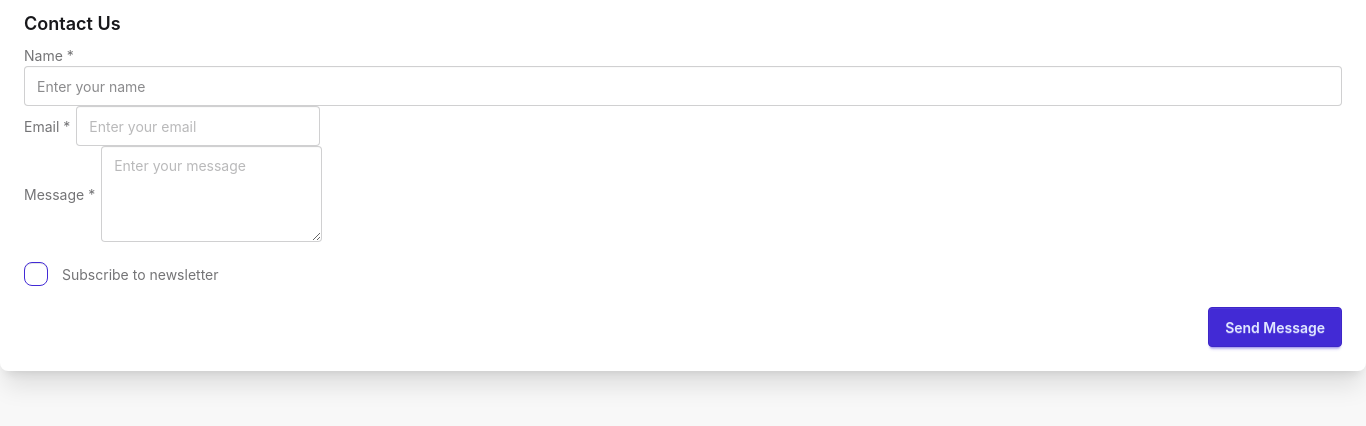
ContactForm › validation errors › shows "Name is required" when name is empty
The image size is (1366, 426).
Type "mighty@pirate.gov" into the field labelled "Email *" at (198, 126), box [76,106,320,146]
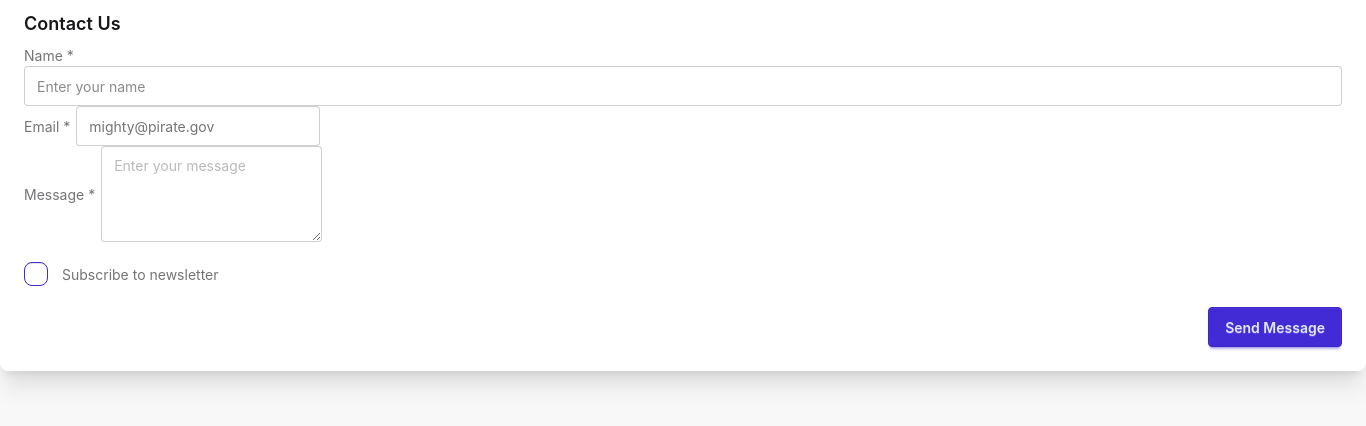
Type "Hello" into the text box labelled "Message *" at (212, 194), box [101,146,322,242]
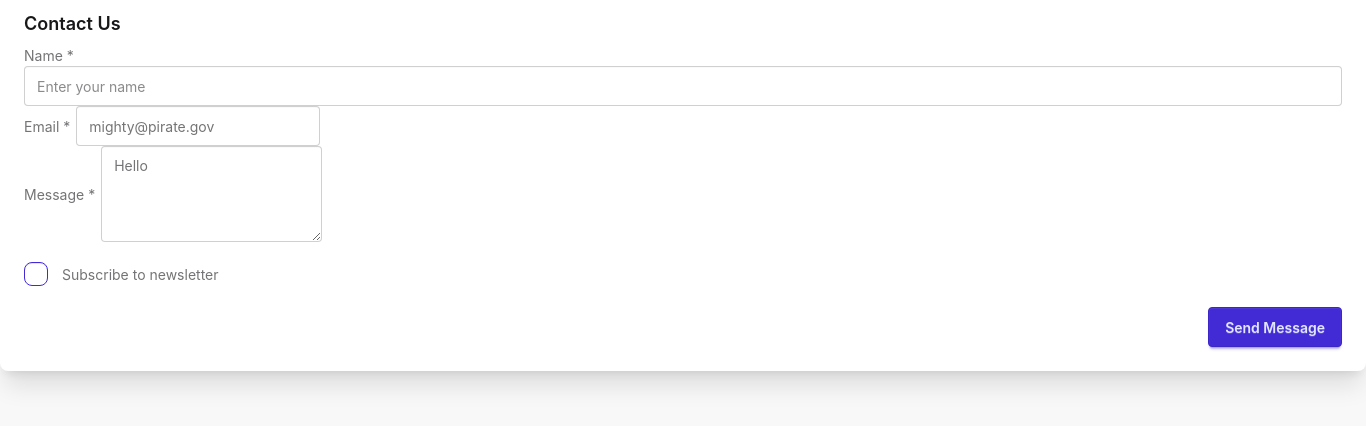
Click the button "Send Message" at (1275, 327), box [1208,307,1342,347]
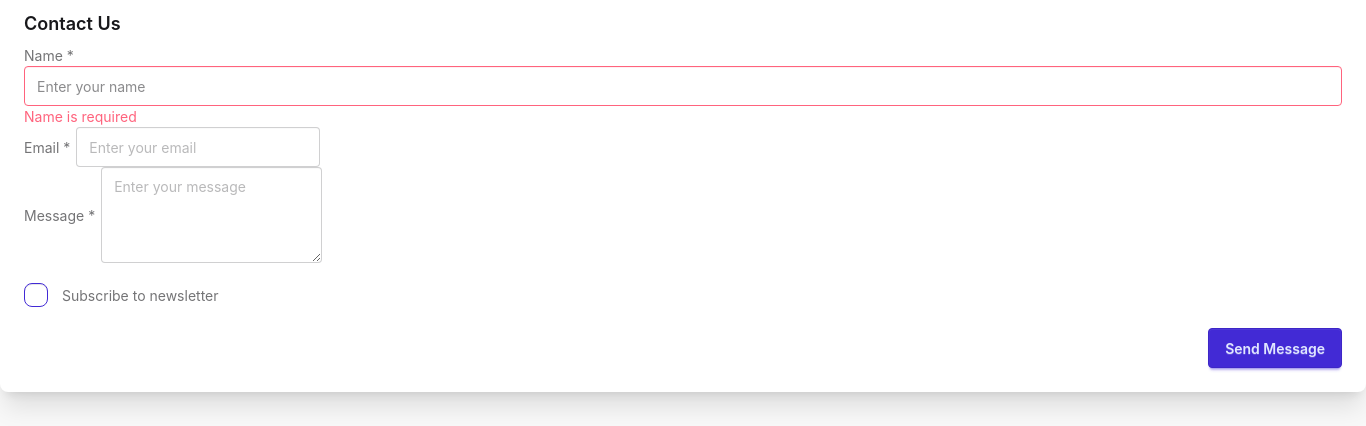
Expected: the text "Name is required" is shown, [24,106,137,127]
